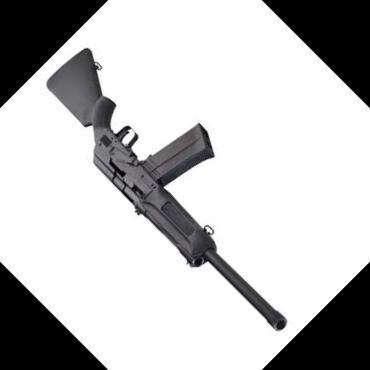larga: (45, 48, 288, 333)
